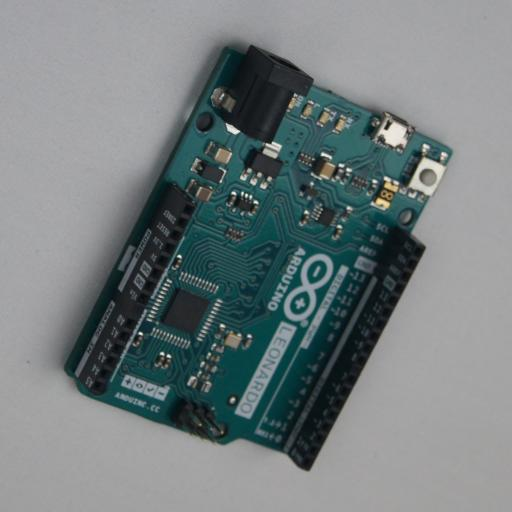Arduino Leonardo: (60, 40, 452, 472)
